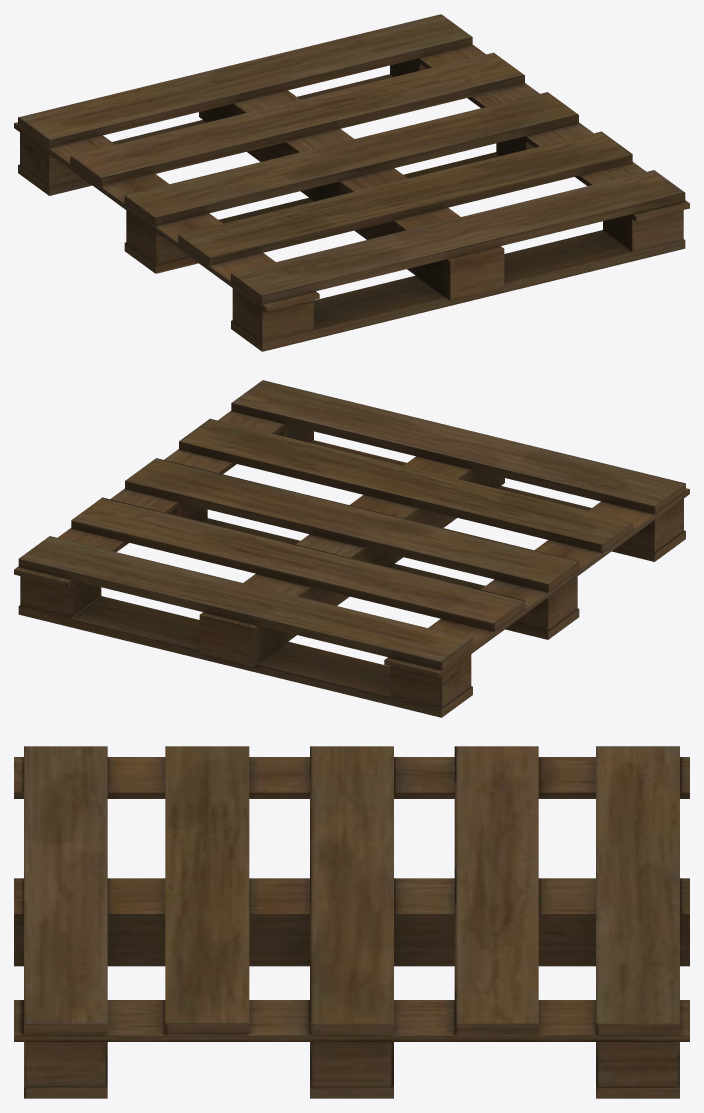
The model's file is pallet.l.e6486075.glb.
The picture shows the model from 3 angles, top to bottom: view 1: azimuth 30°, elevation 25°; view 2: azimuth 150°, elevation 25°; view 3: azimuth 270°, elevation 25°; orthographic projection. The views are drawn at different scales.
Parts seen in each view (by area): view 1: pallet; view 2: pallet; view 3: pallet.
Boxes of the visible parts, x1,y1,x2,y2 form: pallet: (14, 14, 689, 351); pallet: (14, 380, 689, 717); pallet: (14, 746, 689, 1098).
Size of the model in its own units: 1.24 by 0.1559 by 1.27.
1 material, 1 textured.
